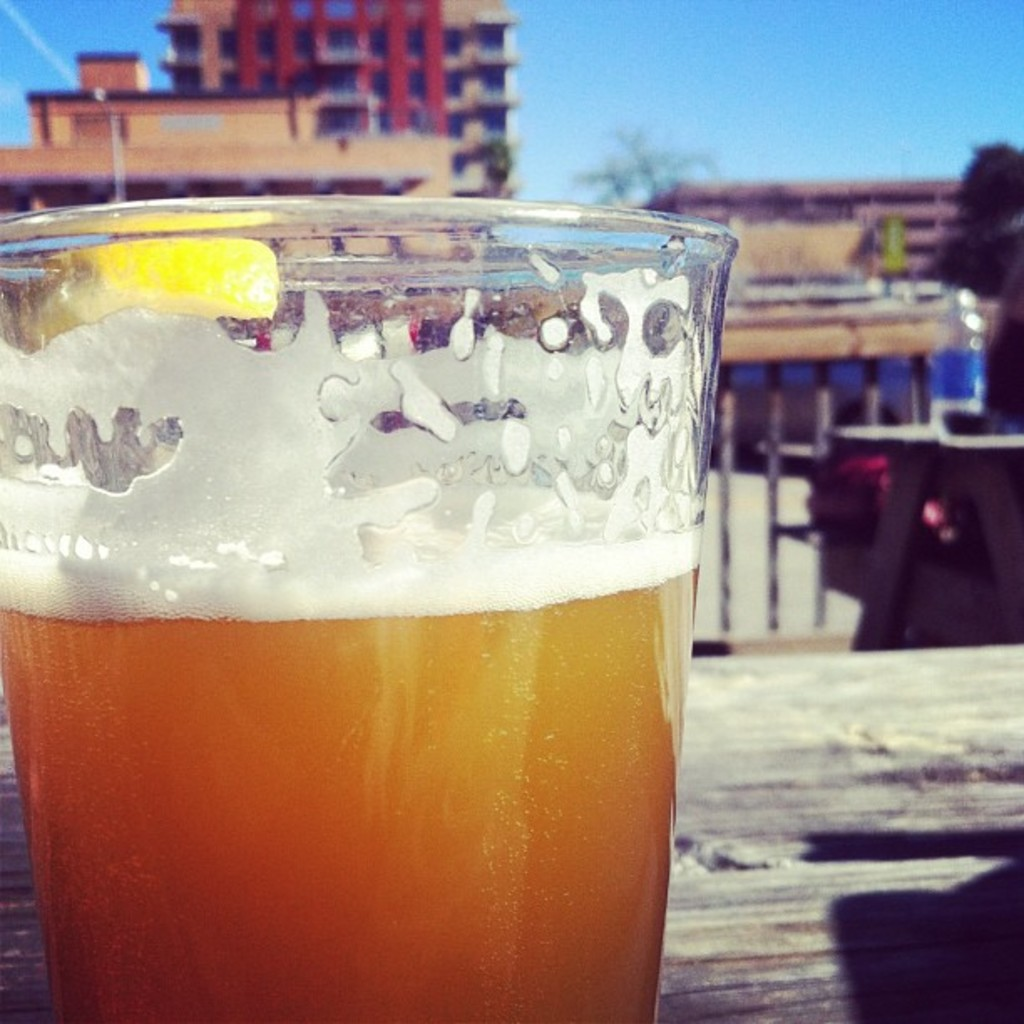Beer: (0, 152, 729, 1022)
